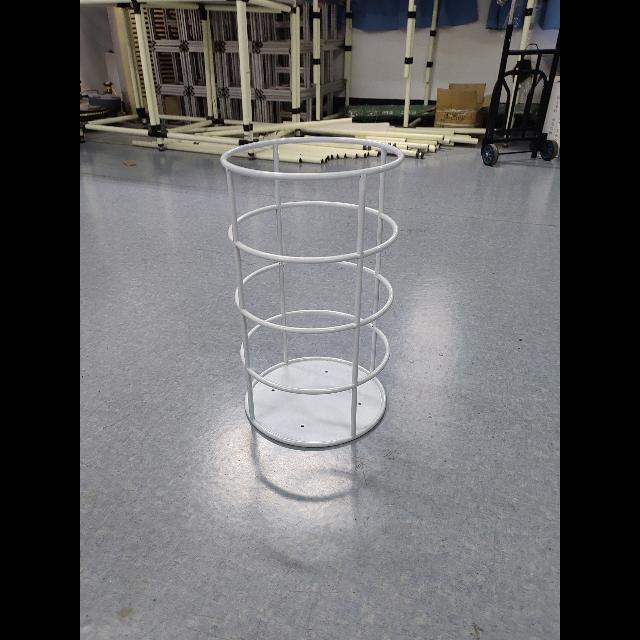S: (215, 131, 411, 457)
